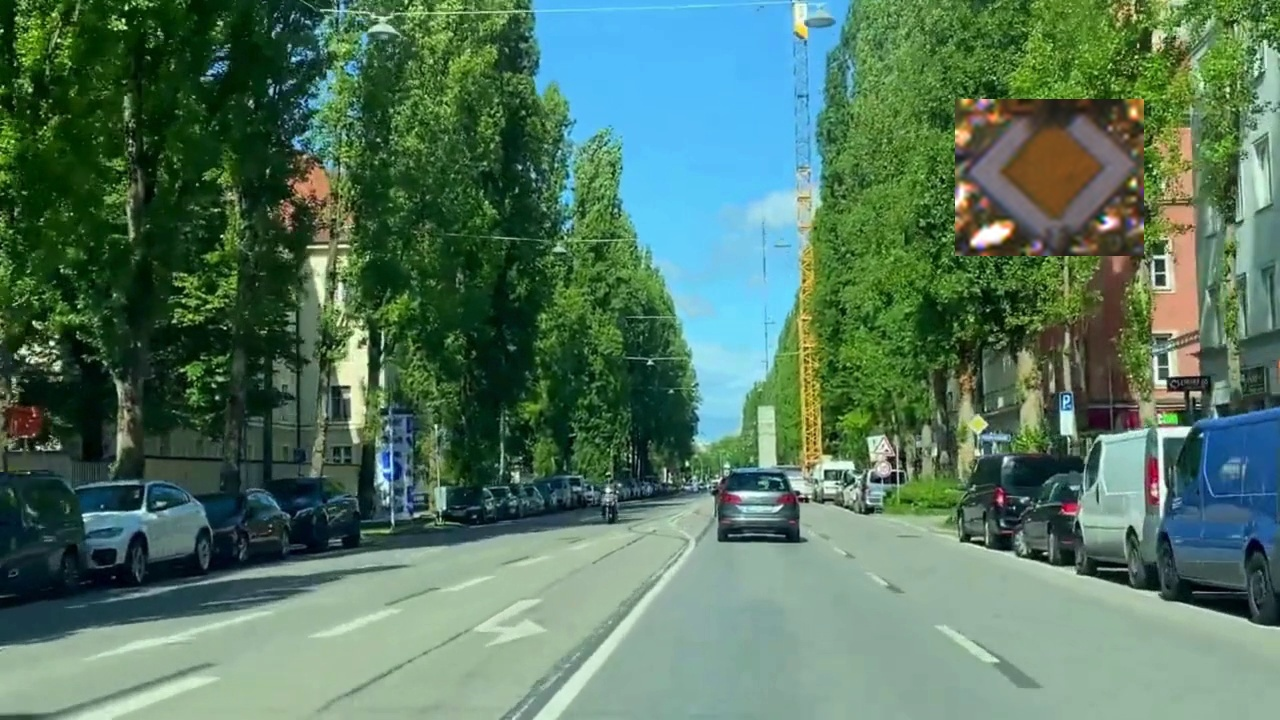Priority road: (955, 99, 1144, 256)
